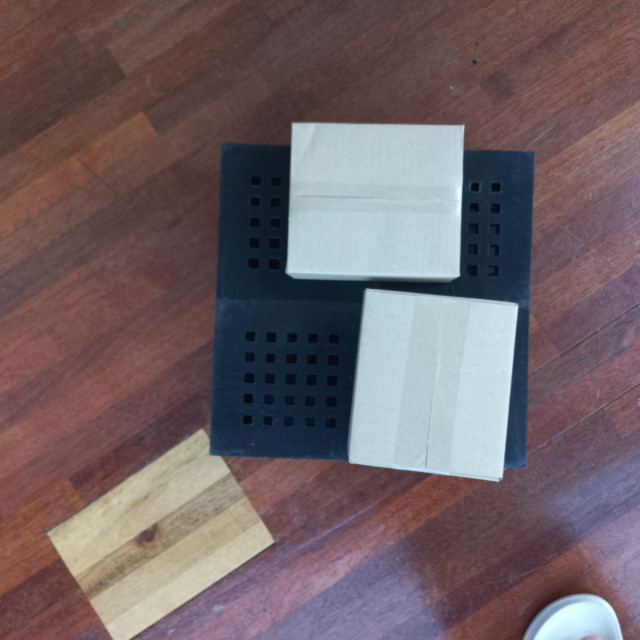box: (348, 286, 519, 483), (284, 120, 468, 281)
